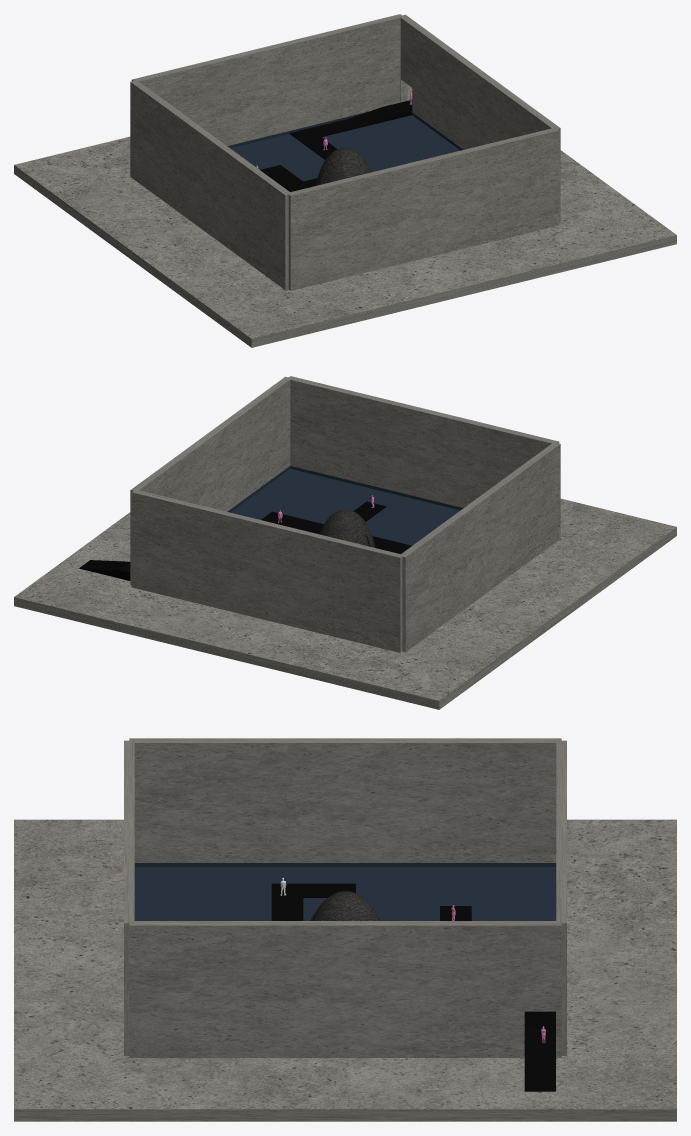
The model's file is CV_Aqvam_Ambient_2.glb.
3 renders of one model, top to bottom at view 1: azimuth 30°, elevation 25°; view 2: azimuth 150°, elevation 25°; view 3: azimuth 270°, elevation 25°, orthographic. The views are drawn at different scales.
Parts seen in each view (by area): view 1: Tetto.001, Left, Right, Front, Back, Fondo.001, cupola feltro aperta, Passerella Esterno, Cube.016, Cube.015; view 2: Tetto.001, Right, Left, Front, Back, Fondo.001, cupola feltro aperta, Passerella Esterno, Cube.020, Bordo B; view 3: Tetto.001, Back, Front, Fondo.001, Right, Left, Passerella Esterno, Bordo R, cupola feltro aperta, Cube.017, Cube.024.
Part boxes in pixels (bbox=[...]): Tetto.001: bbox=[14, 84, 676, 347]; Left: bbox=[288, 128, 559, 290]; Right: bbox=[131, 14, 403, 145]; Front: bbox=[130, 81, 291, 290]; Back: bbox=[399, 14, 560, 223]; Fondo.001: bbox=[230, 115, 459, 191]; cupola feltro aperta: bbox=[315, 147, 371, 185]; Passerella Esterno: bbox=[347, 100, 412, 128]; Cube.016: bbox=[289, 128, 337, 159]; Cube.015: bbox=[309, 119, 393, 137]; Tetto.001: bbox=[14, 498, 676, 709]; Right: bbox=[131, 489, 403, 652]; Left: bbox=[287, 376, 559, 507]; Front: bbox=[399, 442, 560, 652]; Back: bbox=[130, 376, 291, 585]; Fondo.001: bbox=[231, 469, 460, 545]; cupola feltro aperta: bbox=[319, 509, 375, 547]; Passerella Esterno: bbox=[79, 560, 130, 580]; Cube.020: bbox=[261, 511, 323, 533]; Bordo B: bbox=[290, 466, 463, 510]; Tetto.001: bbox=[14, 819, 676, 1121]; Back: bbox=[129, 921, 561, 1057]; Front: bbox=[129, 738, 561, 862]; Fondo.001: bbox=[135, 867, 555, 920]; Right: bbox=[556, 740, 566, 1055]; Left: bbox=[124, 740, 134, 1055]; Passerella Esterno: bbox=[524, 1011, 555, 1091]; Bordo R: bbox=[135, 863, 555, 866]; cupola feltro aperta: bbox=[312, 891, 379, 920]; Cube.017: bbox=[271, 883, 303, 920]; Cube.024: bbox=[271, 883, 355, 897].
Bounding box in the file's own units: 65.01 × 15.58 × 62.95.
Materials: 7 (4 with a texture image).
